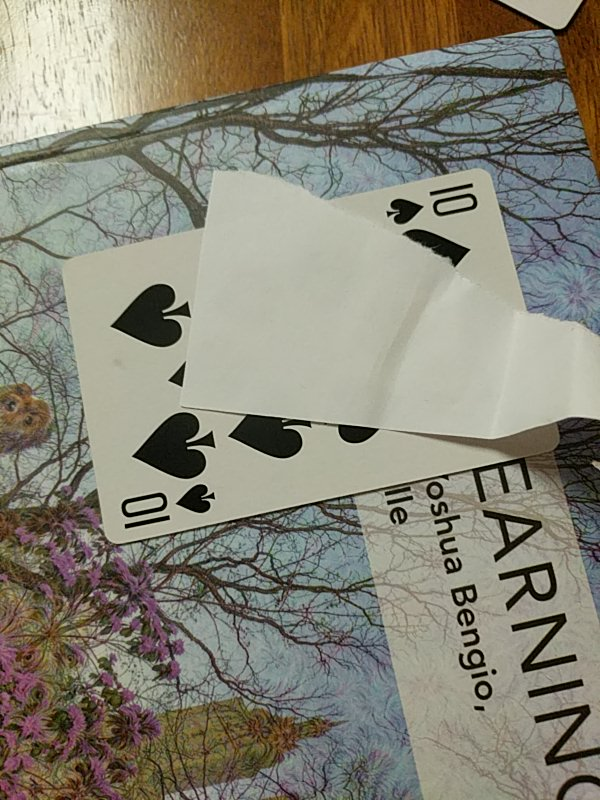Spades: (58, 168, 559, 542)
